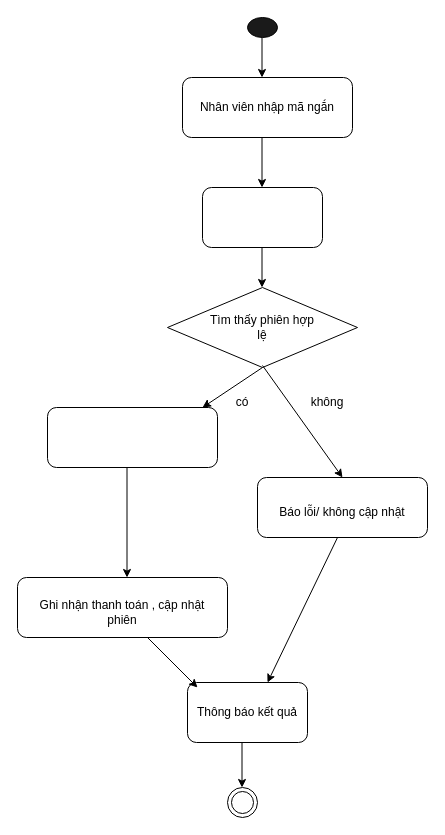
Image size: 445x835. Some labels were removed from this diagram. Here are the shapes that lost their labels. From the top down, the centre of each, then its label:
point 262,217: Tra cứu phiên đang chờ
point 132,437: Đối chiếu và xác nhận đã nhận tiền
